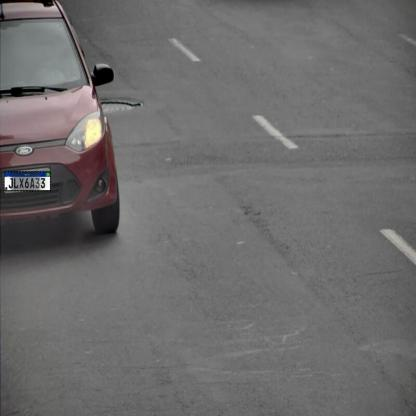PlacaM: (4, 172, 51, 192)
